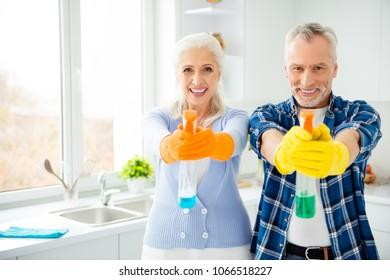gloves: (295, 123, 350, 175), (177, 124, 234, 162), (273, 126, 309, 177), (158, 127, 185, 164)
